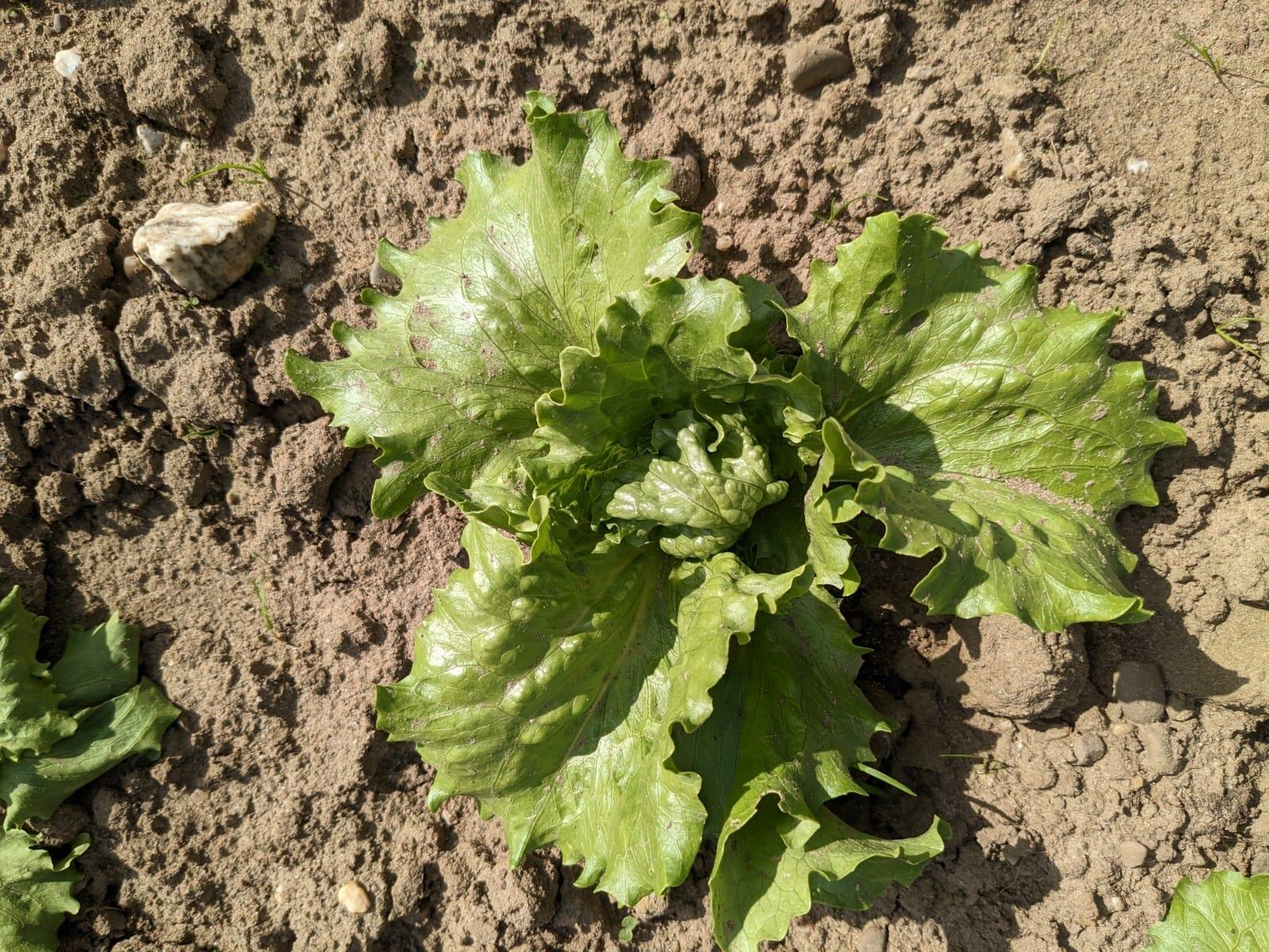Healthy: (286, 93, 1187, 949)
